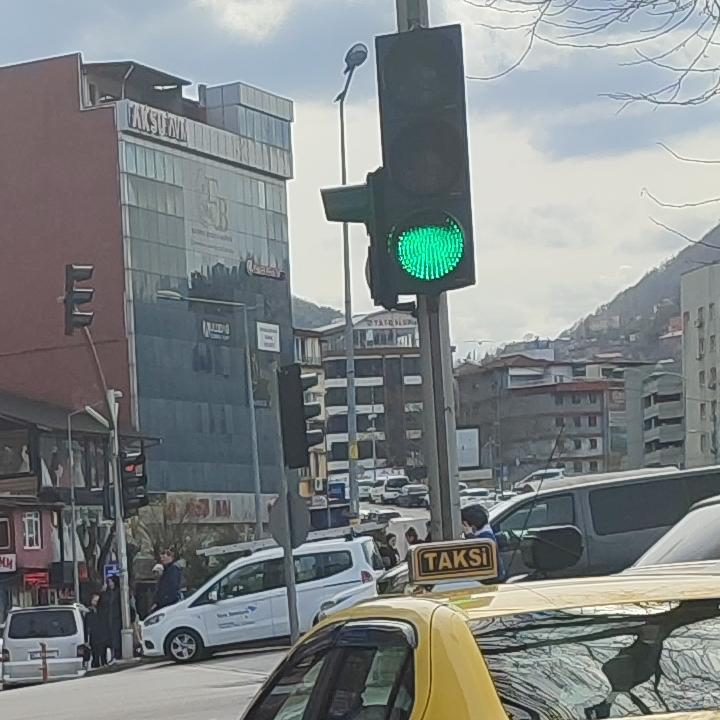green: (373, 22, 477, 296)
